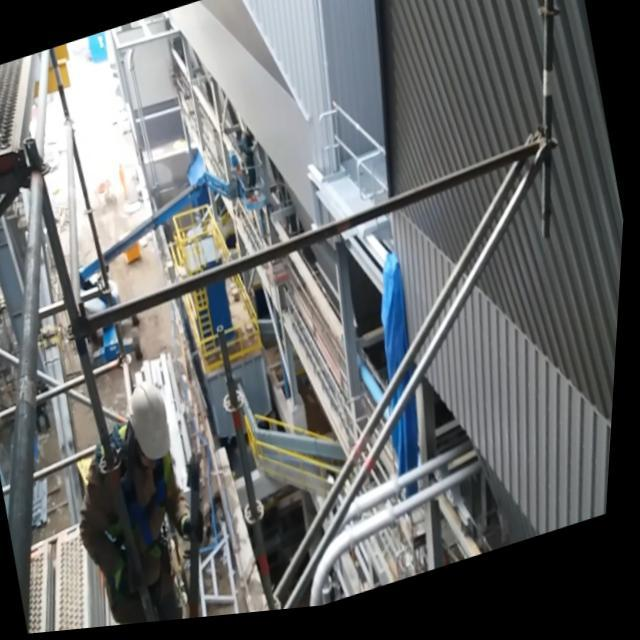belt: (76, 397, 204, 618), (30, 98, 31, 100)
